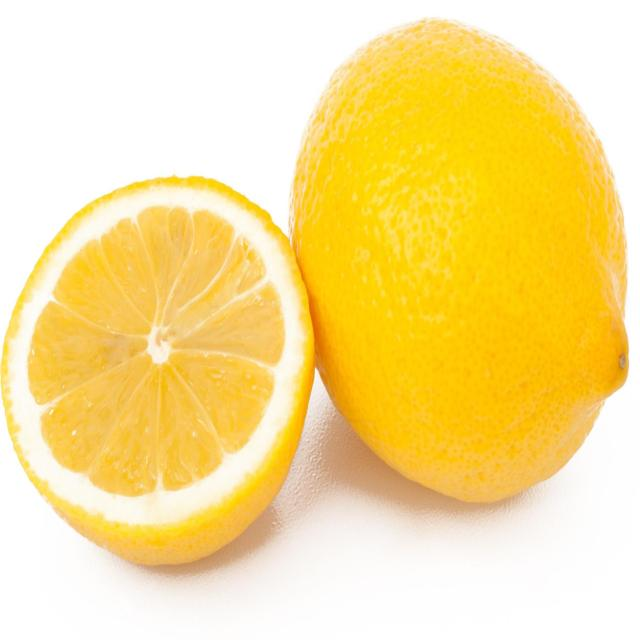lemon: (285, 14, 634, 512), (0, 169, 321, 573)
